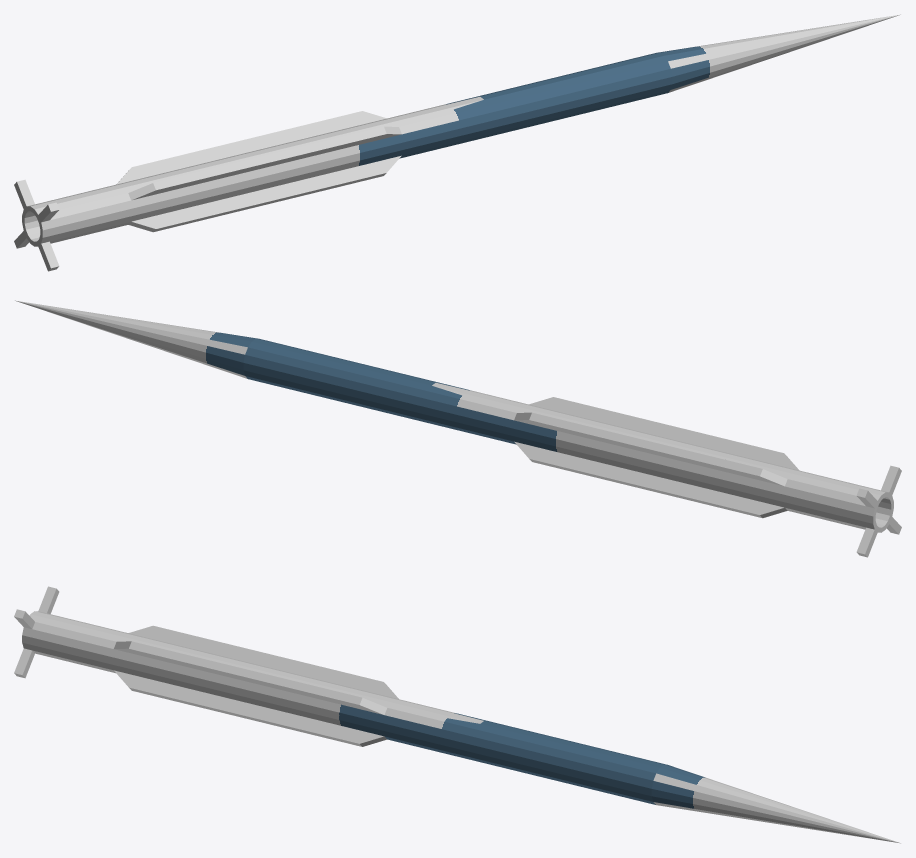
File: Missile.obj
The picture shows the model from 3 angles, top to bottom: view 1: azimuth 30°, elevation 25°; view 2: azimuth 150°, elevation 25°; view 3: azimuth 330°, elevation 25°; orthographic projection.
Visible parts, largest first — view 1: Object_120; view 2: Object_120; view 3: Object_120.
Boxes of the visible parts, left/top/right/bottom form: Object_120: left=14, top=14, right=900, bottom=271; Object_120: left=15, top=300, right=901, bottom=557; Object_120: left=14, top=586, right=900, bottom=843.
Size of the model in its own units: 1.08 by 0.0796 by 0.0796.
Materials: 1 (1 with a texture image).
